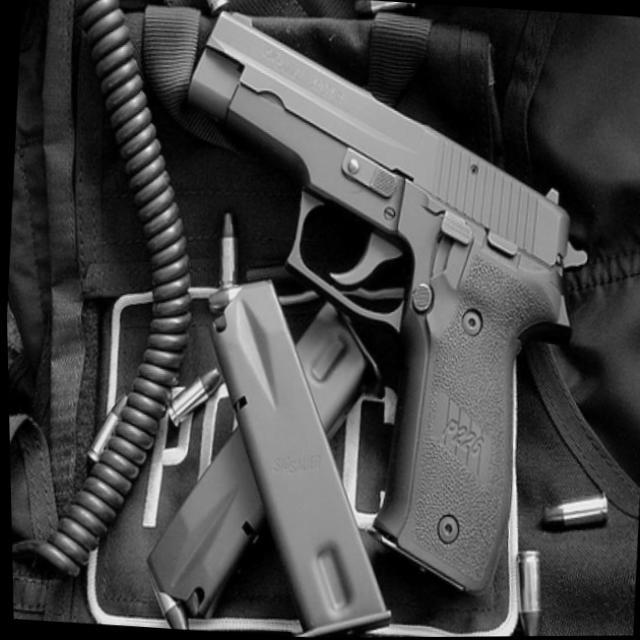weapon: (146, 0, 607, 605)
